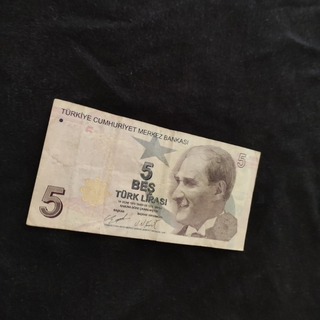5TLFront: (26, 98, 261, 251)
